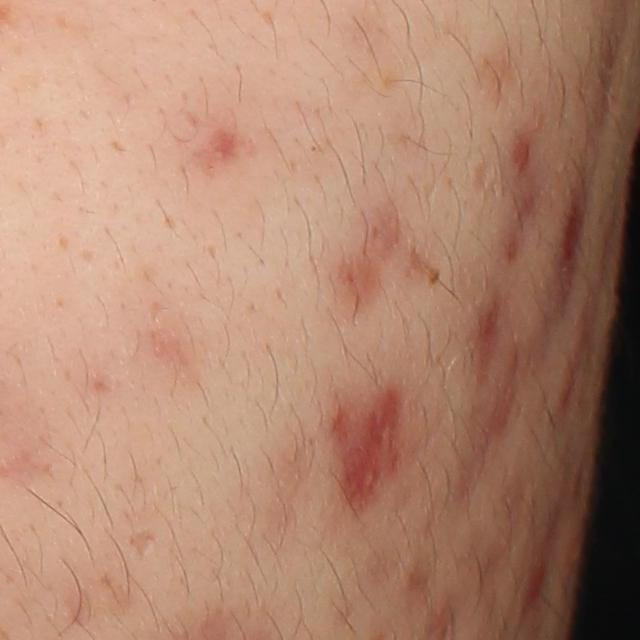atrophic_scar: (343, 387, 403, 517), (125, 527, 161, 561)
papule: (513, 139, 532, 172)
